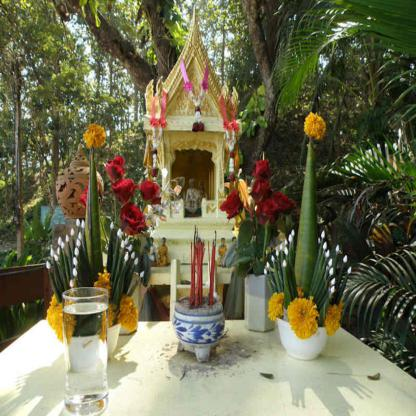vase: (274, 312, 328, 362), (64, 321, 120, 361)
